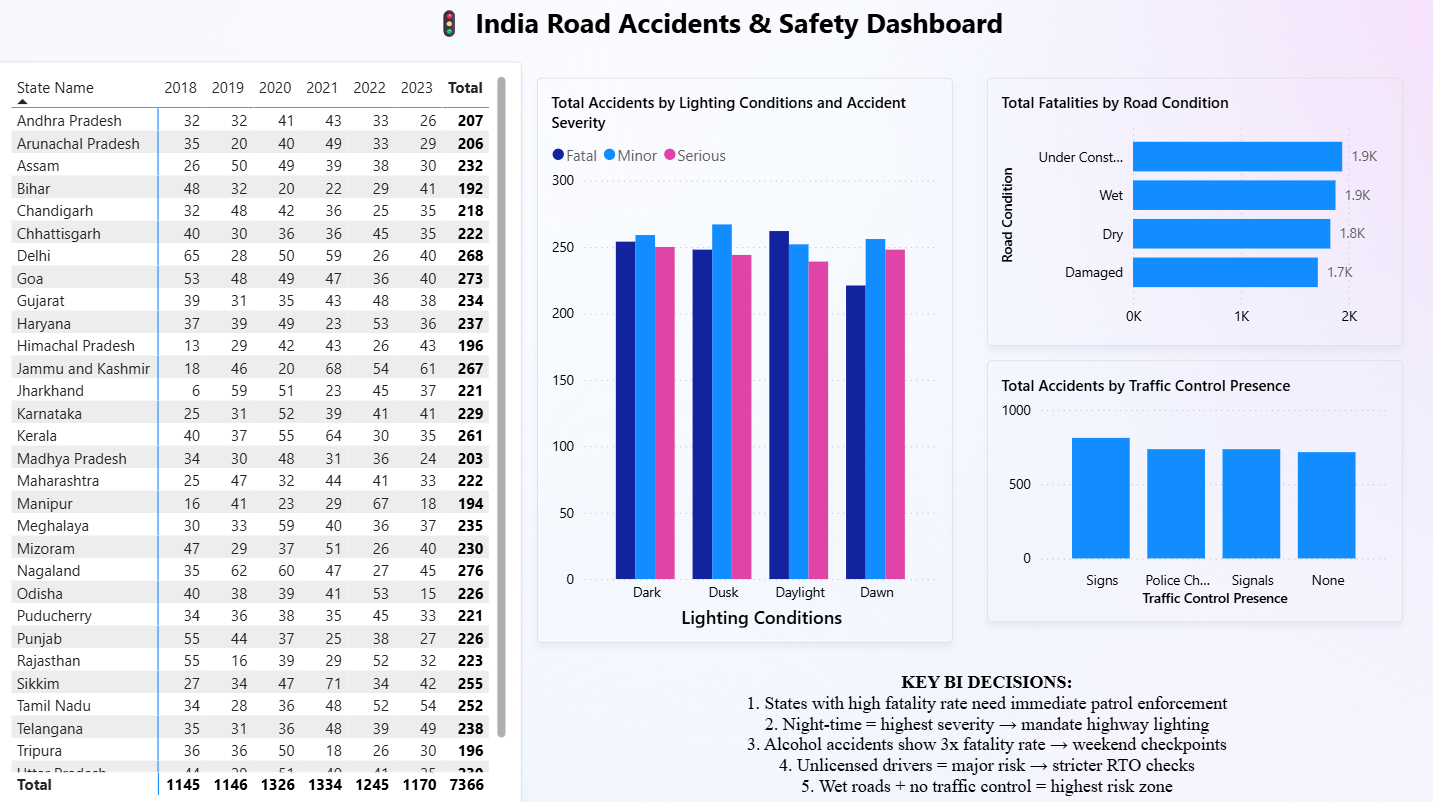

The dashboard page shown, as its layout file describes it:
{"tool":"powerbi","page":{"name":"BI Decisions","canvas":[1280,720],"ordinal":3},"visuals":[{"type":"pivotTable","fields":{"Rows":["accident_prediction_india.State Name"],"Columns":["accident_prediction_india.Year"],"Values":["accident_prediction_india.Total Fatalities"]},"box":[0,55.2,466.3,665],"z":0},{"type":"barChart","fields":{"Category":["accident_prediction_india.Road Condition"],"Y":["accident_prediction_india.Total Fatalities"]},"box":[880.2,69.8,369.8,238.4],"z":1000},{"type":"clusteredColumnChart","fields":{"Category":["accident_prediction_india.Lighting Conditions"],"Series":["accident_prediction_india.Accident Severity"],"Y":["accident_prediction_india.Total Accidents"]},"box":[480.2,69.8,369.8,502.3],"z":2000},{"type":"columnChart","fields":{"Category":["accident_prediction_india.Traffic Control Presence"],"Y":["accident_prediction_india.Total Accidents"]},"box":[880.2,320.9,369.8,232.6],"z":3000},{"type":"textbox","box":[618.6,593,522.1,126.7],"z":4000},{"type":"textbox","box":[0,0,1280,55],"z":5000}]}

Visuals, with their boxes in screenshot pixels (x1, y1, x2, y2), scaled from the page's 1280x720 canvas onto the 1433x802 screenshot:
pivotTable - accident_prediction_india.State Name x accident_prediction_india.Year: rect(0, 61, 522, 801)
barChart - accident_prediction_india.Road Condition x accident_prediction_india.Total Fatalities: rect(985, 78, 1399, 343)
clusteredColumnChart - accident_prediction_india.Lighting Conditions x accident_prediction_india.Accident Severity: rect(538, 78, 952, 637)
columnChart - accident_prediction_india.Traffic Control Presence x accident_prediction_india.Total Accidents: rect(985, 357, 1399, 617)
textbox: rect(693, 661, 1277, 801)
textbox: rect(0, 0, 1432, 61)
